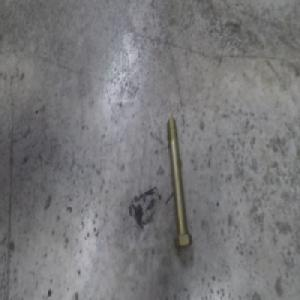Bolt: (164, 114, 191, 247)
